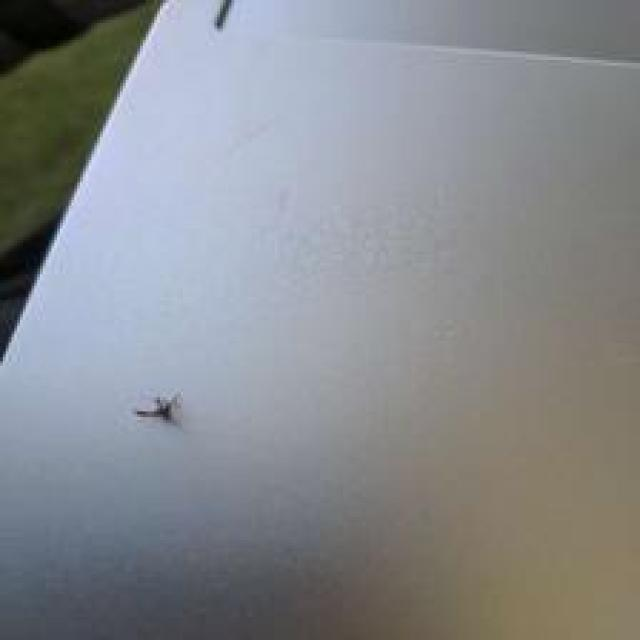Culex: (133, 388, 181, 423)
